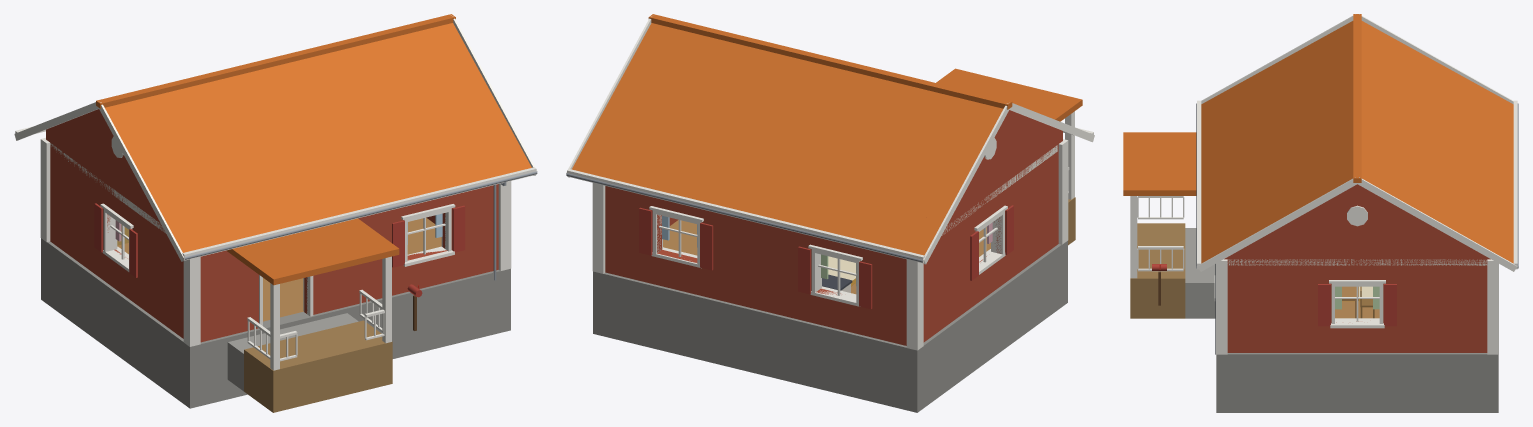
Rendered from House.glb.
3 renders of one model, left to right at view 1: azimuth 30°, elevation 25°; view 2: azimuth 150°, elevation 25°; view 3: azimuth 270°, elevation 25°, orthographic. The views are drawn at different scales.
Parts seen in each view (by area): view 1: House; view 2: House; view 3: House.
Part boxes in pixels (bbox=[...]): House: bbox=[14, 14, 537, 412]; House: bbox=[566, 14, 1094, 412]; House: bbox=[1123, 14, 1518, 412].
Size of the model in its own units: 11.3 by 7.79 by 11.48.
